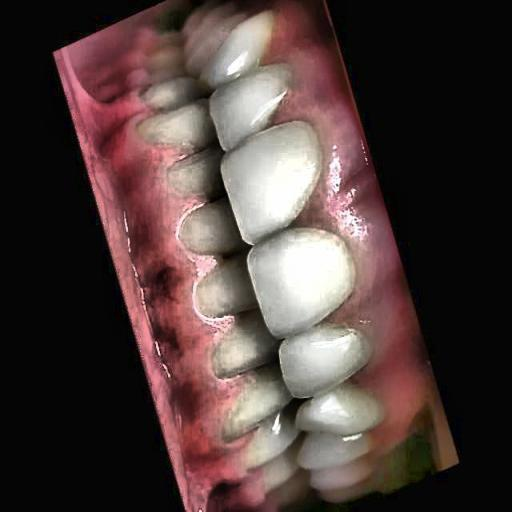Healthy: (125, 27, 378, 470)
